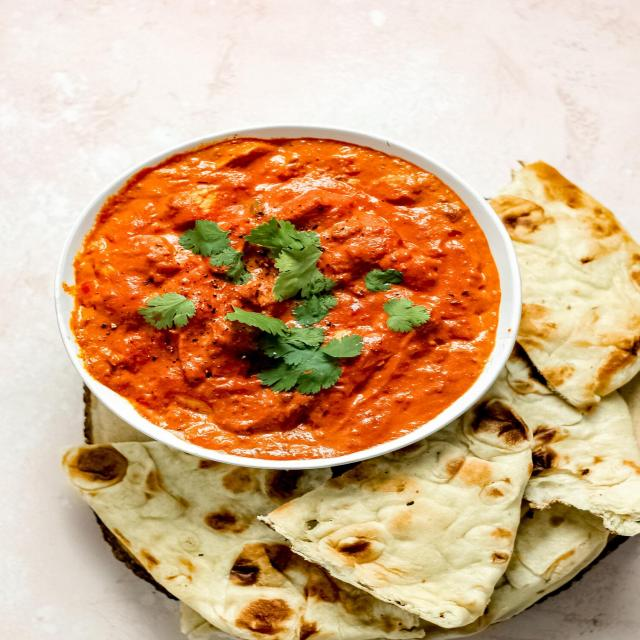chicken: (68, 127, 512, 447)
roti: (45, 438, 640, 640), (506, 162, 632, 418)
